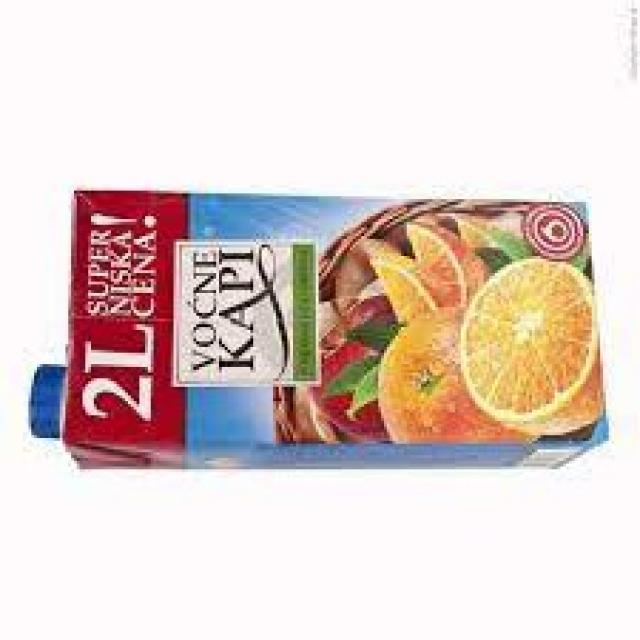non_white_jug: (22, 183, 616, 477)
